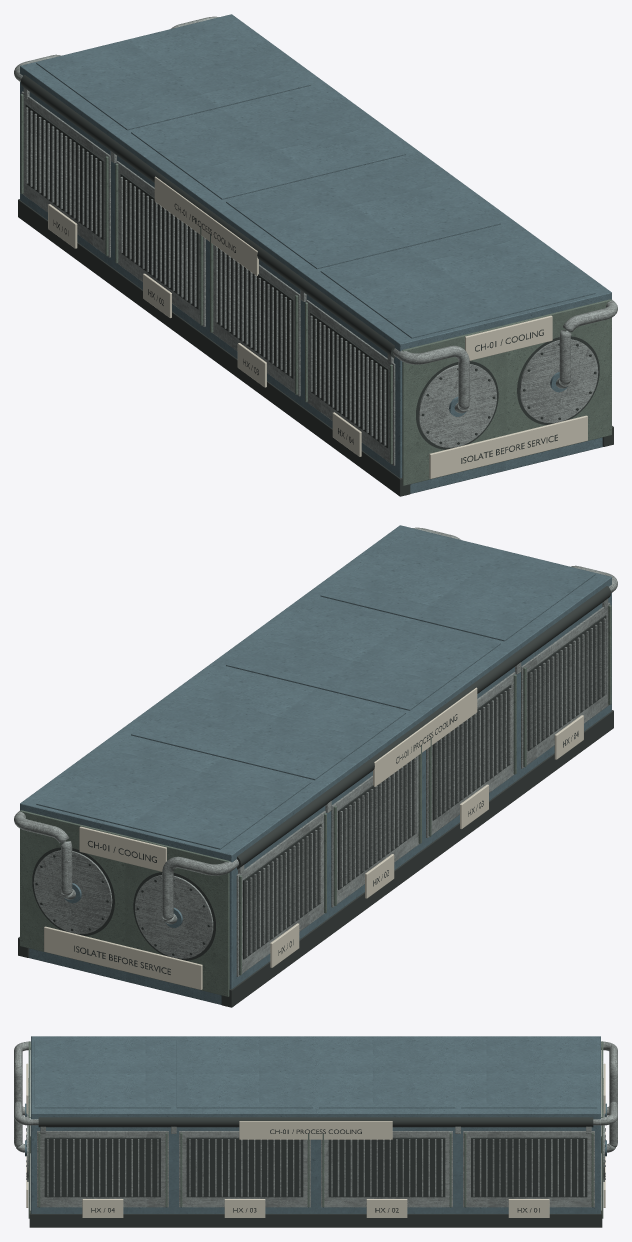
Rendered from cooling_exchanger.glb.
The picture shows the model from 3 angles, top to bottom: view 1: azimuth 30°, elevation 25°; view 2: azimuth 150°, elevation 25°; view 3: azimuth 270°, elevation 25°; orthographic projection. The views are drawn at different scales.
Parts seen in each view (by area): view 1: cooling_exchanger / power_pump_bluegray, cooling_exchanger / power_galvanized, cooling_exchanger / power_blackened_steel, cooling_exchanger / power_sage_enamel, cooling_exchanger / power_instrument_ivory; view 2: cooling_exchanger / power_pump_bluegray, cooling_exchanger / power_galvanized, cooling_exchanger / power_blackened_steel, cooling_exchanger / power_sage_enamel, cooling_exchanger / power_instrument_ivory; view 3: cooling_exchanger / power_pump_bluegray, cooling_exchanger / power_blackened_steel, cooling_exchanger / power_galvanized, cooling_exchanger / power_instrument_ivory, cooling_exchanger / power_sage_enamel.
Boxes of the visible parts, left/top/right/bottom form: cooling_exchanger / power_pump_bluegray: left=20, top=14, right=611, bottom=493; cooling_exchanger / power_galvanized: left=14, top=16, right=617, bottom=465; cooling_exchanger / power_blackened_steel: left=18, top=75, right=613, bottom=496; cooling_exchanger / power_sage_enamel: left=20, top=94, right=611, bottom=485; cooling_exchanger / power_instrument_ivory: left=48, top=176, right=587, bottom=478; cooling_exchanger / power_pump_bluegray: left=20, top=525, right=611, bottom=1004; cooling_exchanger / power_galvanized: left=14, top=527, right=617, bottom=976; cooling_exchanger / power_blackened_steel: left=18, top=586, right=613, bottom=1007; cooling_exchanger / power_sage_enamel: left=20, top=605, right=611, bottom=996; cooling_exchanger / power_instrument_ivory: left=44, top=687, right=583, bottom=989; cooling_exchanger / power_pump_bluegray: left=25, top=1036, right=606, bottom=1213; cooling_exchanger / power_blackened_steel: left=26, top=1117, right=605, bottom=1227; cooling_exchanger / power_galvanized: left=14, top=1041, right=617, bottom=1207; cooling_exchanger / power_instrument_ivory: left=26, top=1063, right=605, bottom=1217; cooling_exchanger / power_sage_enamel: left=28, top=1041, right=603, bottom=1218.
Size of the model in its own units: 3.42 by 2.24 by 10.63.
5 materials, 3 textured.
